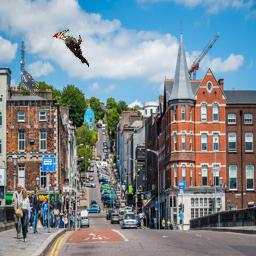Swallow: (20, 70, 39, 95)
Woodpecker: (53, 28, 89, 68)
